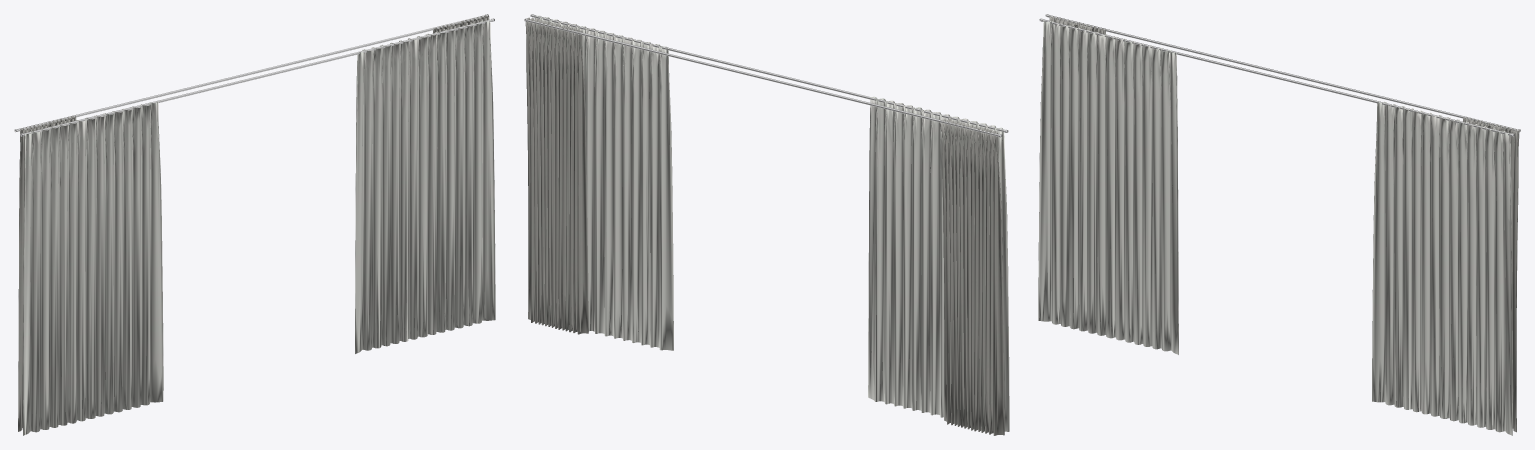
The model's file is curtain.glb.
3 views of the same model, side by side, from view 1: azimuth 30°, elevation 25°; view 2: azimuth 150°, elevation 25°; view 3: azimuth 330°, elevation 25° (orthographic).
Visible parts, largest first — view 1: BP_Curtain; view 2: BP_Curtain; view 3: BP_Curtain.
Part boxes in pixels (x1,y1,x2,y2): BP_Curtain: (14,14,495,435); BP_Curtain: (524,14,1009,435); BP_Curtain: (1038,14,1520,435).
Bounding box in the file's own units: 4.12 × 2.5 × 0.136.
3 materials, 3 textured.
